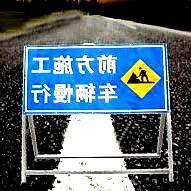sign: (25, 45, 168, 111)
